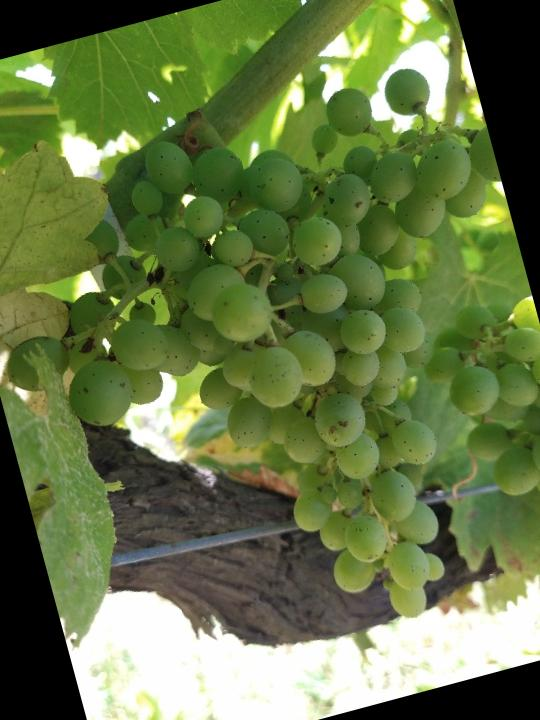grape: (0, 51, 540, 706)
